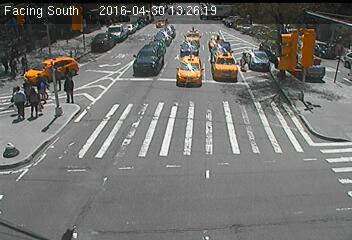neg: (54, 182, 94, 235), (205, 110, 240, 156), (150, 166, 181, 207), (311, 32, 338, 69), (102, 66, 125, 97), (112, 112, 134, 143), (151, 51, 173, 80), (68, 6, 87, 31), (166, 5, 184, 29), (112, 7, 130, 31), (23, 7, 41, 31), (232, 23, 247, 43), (217, 37, 225, 47)
pos: (54, 68, 82, 106), (22, 87, 47, 120), (6, 85, 31, 118), (29, 69, 51, 100), (6, 56, 23, 80), (17, 54, 33, 76)
